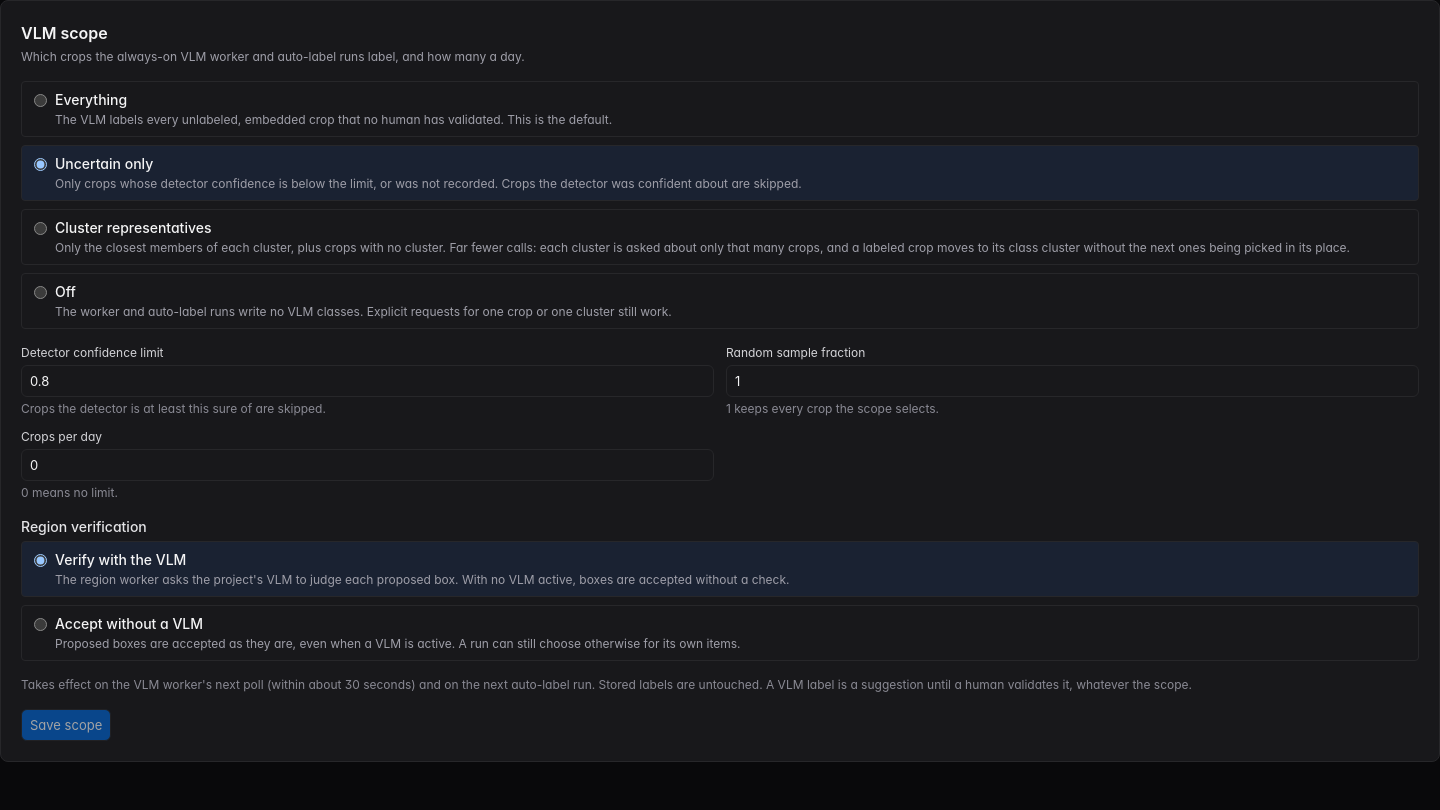
Test case: VlmScopePanel › shows only the knobs the chosen scope reads
Click the radio button with test id "vlm-scope-representatives": (40, 228) [34,222,47,235]
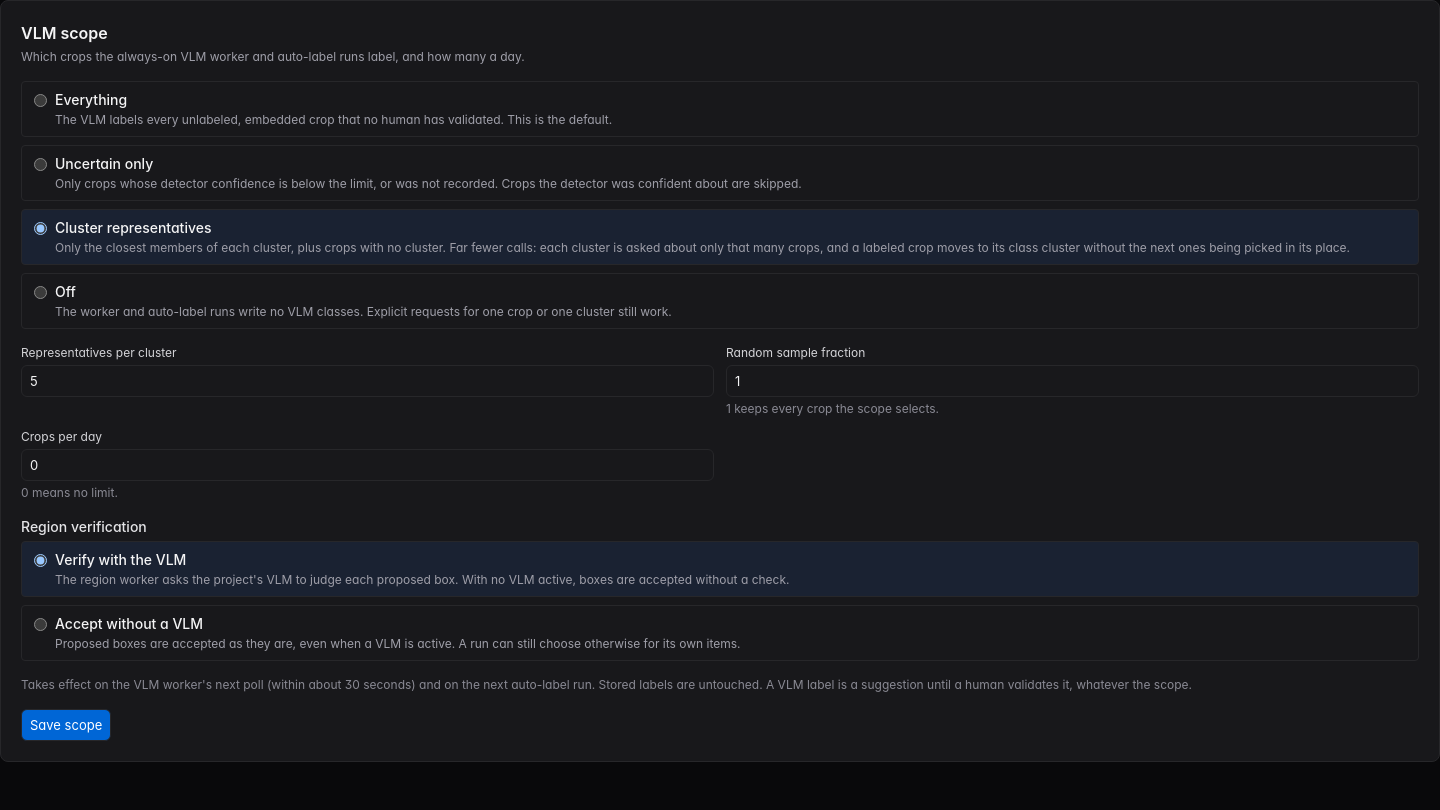
Click the radio button with test id "vlm-scope-off": (40, 292) [34,286,47,299]
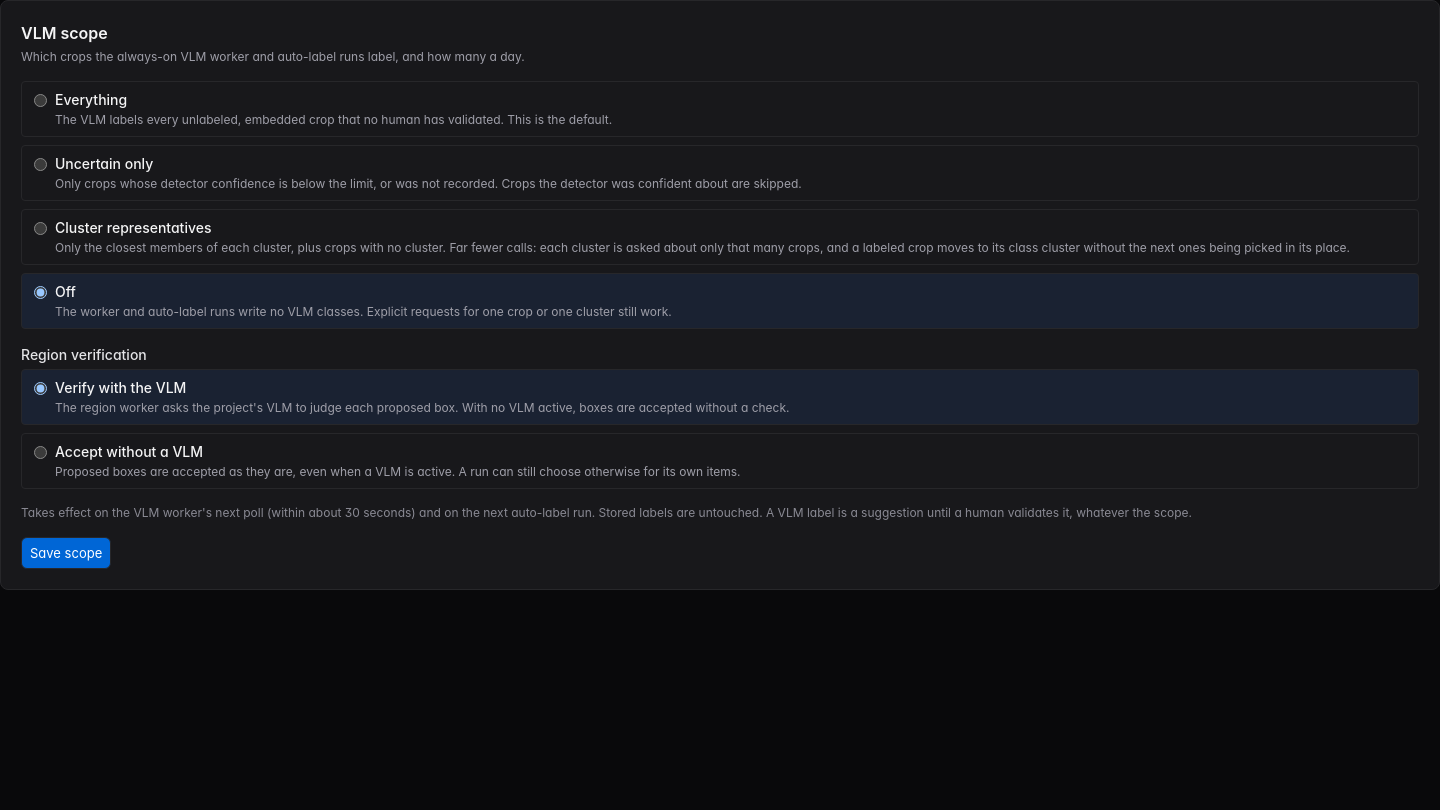
Result: the element with test id "vlm-scope-knobs" is gone
